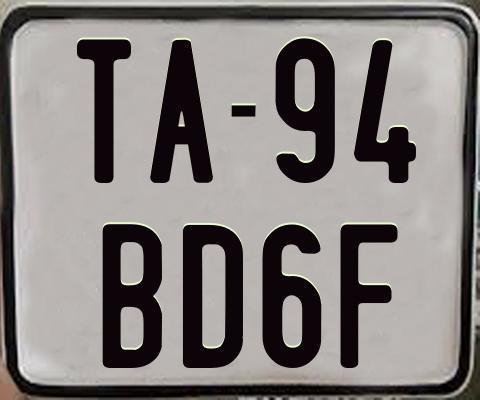4: (354, 38, 420, 186)
6: (260, 224, 319, 369)
9: (274, 38, 337, 189)
A: (147, 39, 213, 186)
B: (100, 221, 165, 369)
D: (181, 222, 241, 369)
F: (340, 224, 403, 373)
T: (74, 36, 129, 184)
